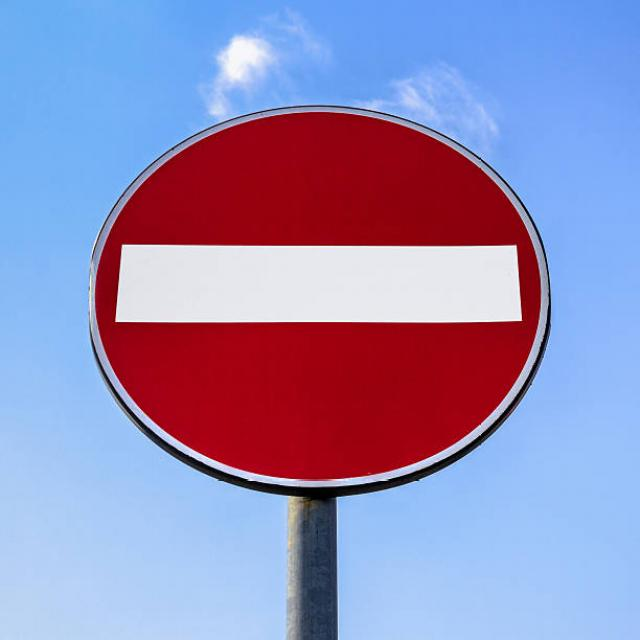do_not_enter: (77, 94, 564, 506)
